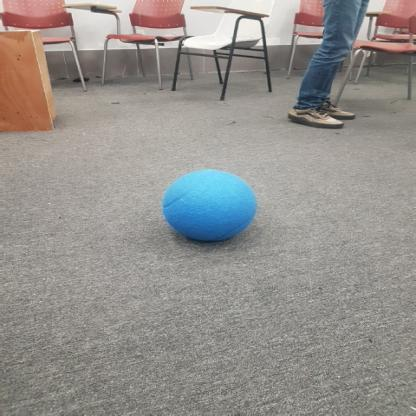ball: (139, 159, 294, 252)
